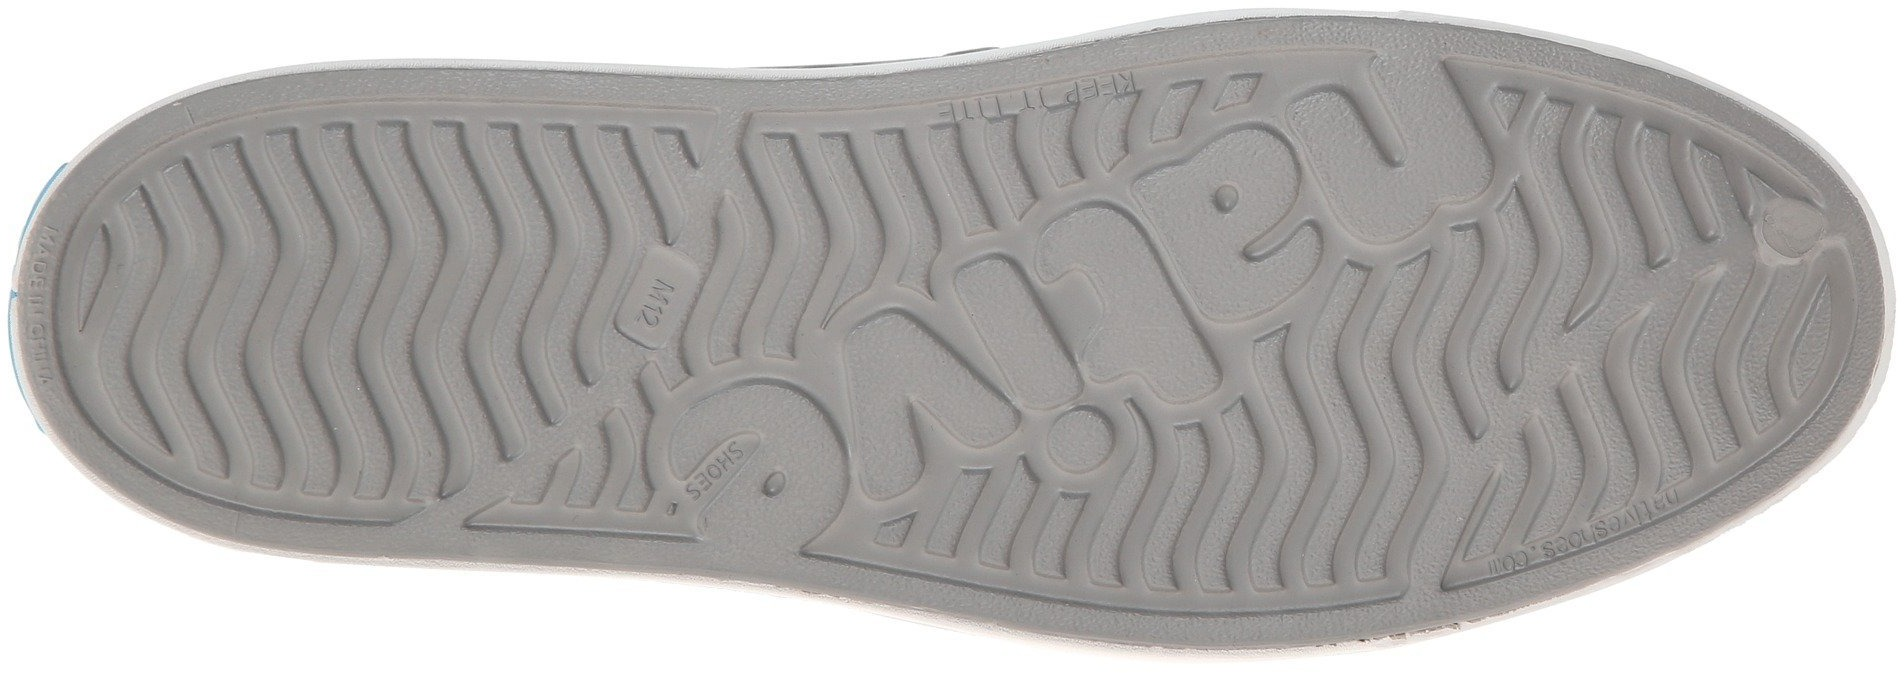chevron: (1366, 251, 1614, 522), (359, 97, 603, 360), (118, 179, 355, 401), (1161, 409, 1375, 589), (766, 155, 914, 302)
circle: (913, 255, 1152, 485)
line: (1366, 251, 1614, 522)
quad: (612, 239, 714, 360)
text: (913, 255, 1152, 485), (1130, 141, 1348, 343), (659, 357, 860, 549), (1300, 47, 1486, 217), (612, 239, 714, 360), (1065, 61, 1121, 114), (642, 272, 690, 327)
